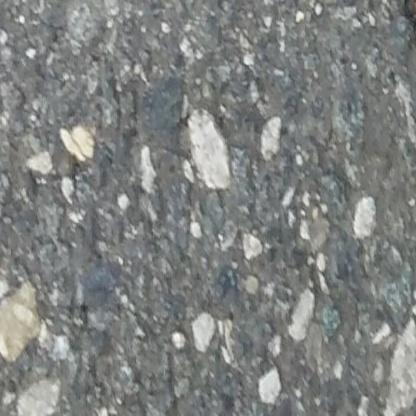Cracks: (402, 0, 416, 113)
